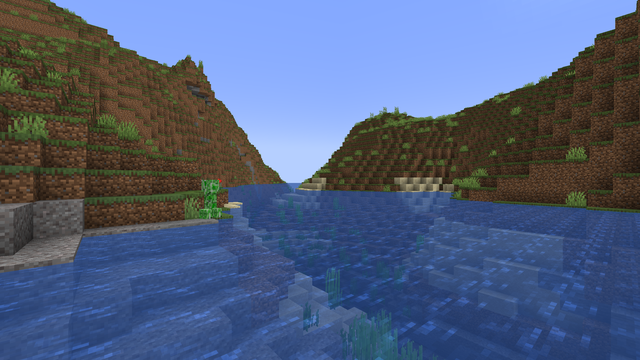creepers: (201, 178, 219, 219)
